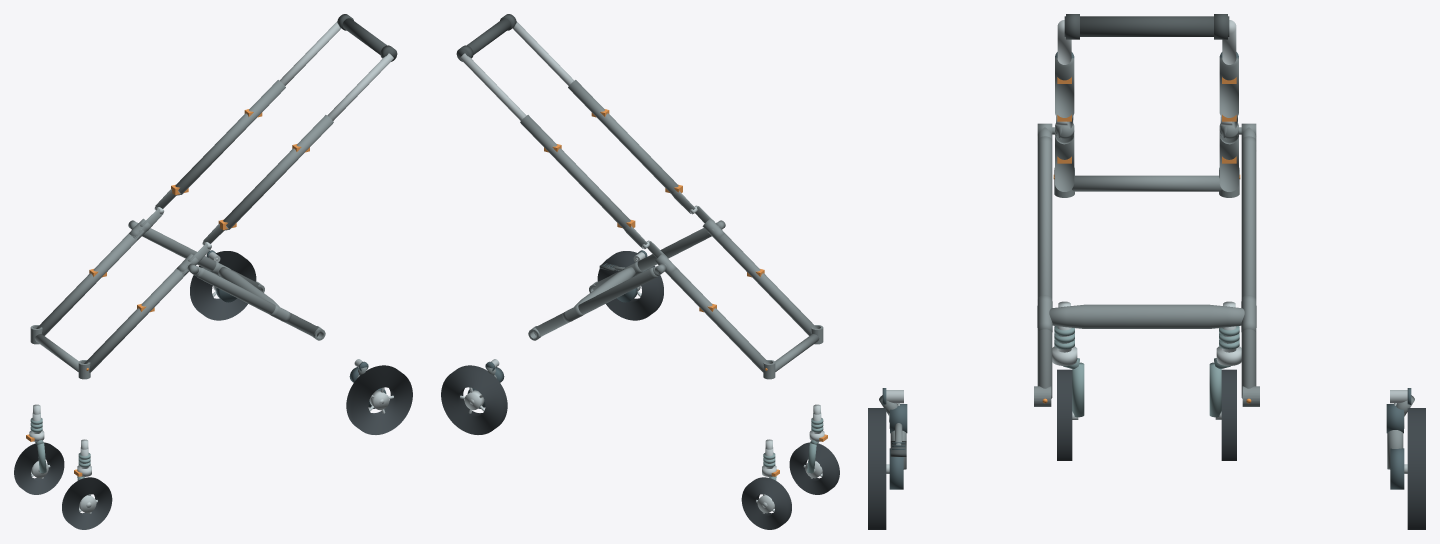
The model's file is w380_state4.glb.
The picture shows the model from 3 angles, left to right: view 1: azimuth 30°, elevation 25°; view 2: azimuth 150°, elevation 25°; view 3: azimuth 270°, elevation 25°; orthographic projection. The views are drawn at different scales.
Parts seen in each view (by area): view 1: RL_tire.001, RR_tire.001, FL_tire.001, main_upper_-1.003, main_upper_1.003, FR_tire.001, main_lower_1.003, main_lower_-1.003, V46_rear_leg_-1.003, V46_rear_leg_1.003, handle_slider_-1.001, handle_slider_1.001 (+3 smaller); view 2: RR_tire.001, RL_tire.001, FR_tire.001, main_upper_1.003, main_upper_-1.003, FL_tire.001, main_lower_-1.003, main_lower_1.003, V46_rear_leg_1.003, V46_rear_leg_-1.003, handle_slider_1.001, handle_slider_-1.001 (+3 smaller); view 3: V46_rearbar.003, V46_rear_leg_-1.003, V46_rear_leg_1.003, round_handle.001, front_fixed_round_tube.001, RL_tire.001, RR_tire.001, FL_tire.001, FR_tire.001, main_upper_1.003, main_upper_-1.003, main_lower_1.003 (+3 smaller).
Boxes of the visible parts, x1,y1,x2,y2 form: RL_tire.001: [346, 365, 412, 434]; RR_tire.001: [190, 251, 256, 320]; FL_tire.001: [62, 477, 112, 529]; main_upper_-1.003: [223, 115, 333, 229]; main_upper_1.003: [175, 80, 285, 194]; FR_tire.001: [14, 442, 64, 494]; main_lower_1.003: [36, 230, 143, 335]; main_lower_-1.003: [84, 268, 187, 372]; V46_rear_leg_-1.003: [196, 267, 319, 336]; V46_rear_leg_1.003: [142, 228, 261, 290]; handle_slider_-1.001: [327, 53, 393, 120]; handle_slider_1.001: [279, 21, 340, 85]; RR_tire.001: [441, 365, 507, 434]; RL_tire.001: [597, 251, 663, 320]; FR_tire.001: [741, 477, 791, 529]; main_upper_1.003: [520, 115, 630, 229]; main_upper_-1.003: [568, 80, 678, 194]; FL_tire.001: [789, 442, 839, 494]; main_lower_-1.003: [710, 230, 817, 335]; main_lower_1.003: [666, 268, 769, 372]; V46_rear_leg_1.003: [534, 267, 657, 336]; V46_rear_leg_-1.003: [592, 228, 711, 290]; handle_slider_1.001: [460, 53, 526, 120]; handle_slider_-1.001: [513, 21, 574, 85]; V46_rearbar.003: [1049, 304, 1244, 328]; V46_rear_leg_-1.003: [1037, 136, 1052, 398]; V46_rear_leg_1.003: [1241, 136, 1256, 398]; round_handle.001: [1064, 16, 1229, 36]; front_fixed_round_tube.001: [1072, 175, 1221, 191]; RL_tire.001: [868, 408, 886, 529]; RR_tire.001: [1407, 408, 1425, 529]; FL_tire.001: [1057, 369, 1072, 460]; FR_tire.001: [1221, 369, 1236, 460]; main_upper_1.003: [1219, 54, 1238, 117]; main_upper_-1.003: [1055, 54, 1074, 117]; main_lower_1.003: [1219, 132, 1238, 191].
Size of the model in its own units: 1.09 by 1.26 by 0.914.
